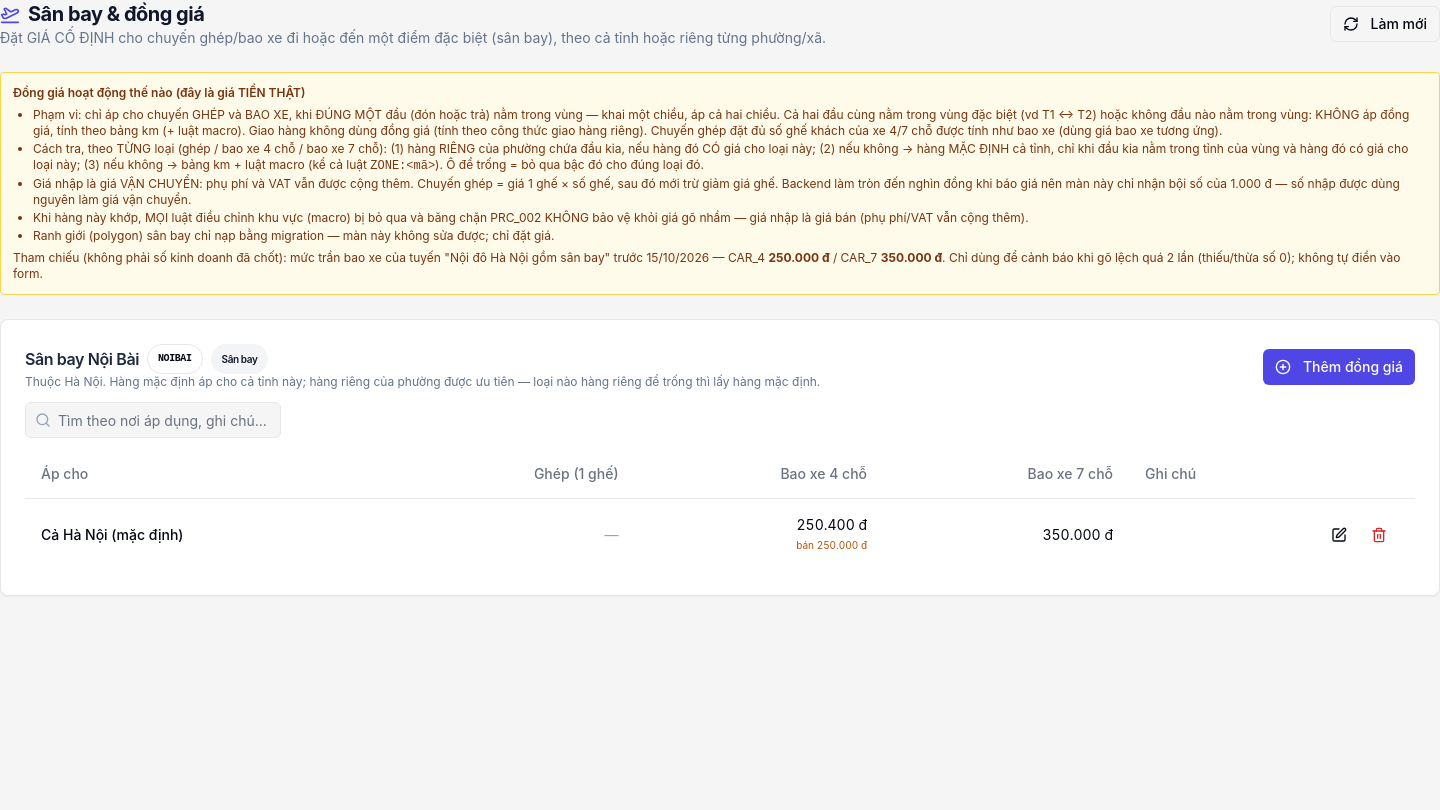
Test: SpecialZonesManager › giá lẻ nghìn (backend làm tròn đến nghìn lúc báo giá) › hàng lẻ nghìn có sẵn trong DB (ghi thẳng qua API): bảng nêu giá thực bán, sửa buộc nhập lại số tròn nghìn
Expected: the element with test id "zone-NOIBAI" is shown, [0,319,1439,596]
Expected: the text with test id "flat-odd-default-priceCar4" reads "bán 250.000 đ", [796,538,867,550]
Click the button named "Sửa đồng giá Cả Hà Nội". click: (1339, 534)
box: [1319,514,1359,554]
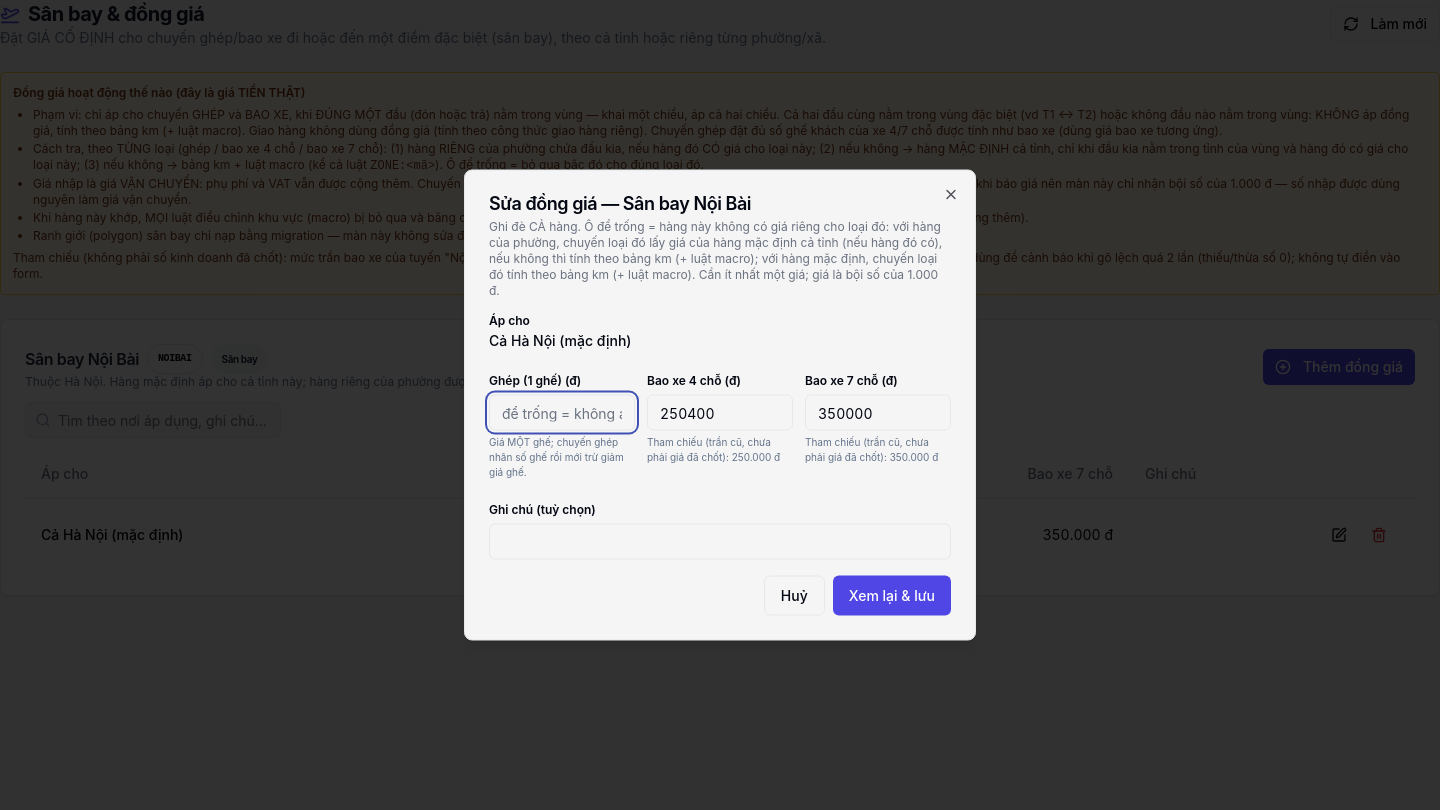
Click the button "Xem lại & lưu". click: (892, 596)
box: [833,576,951,616]
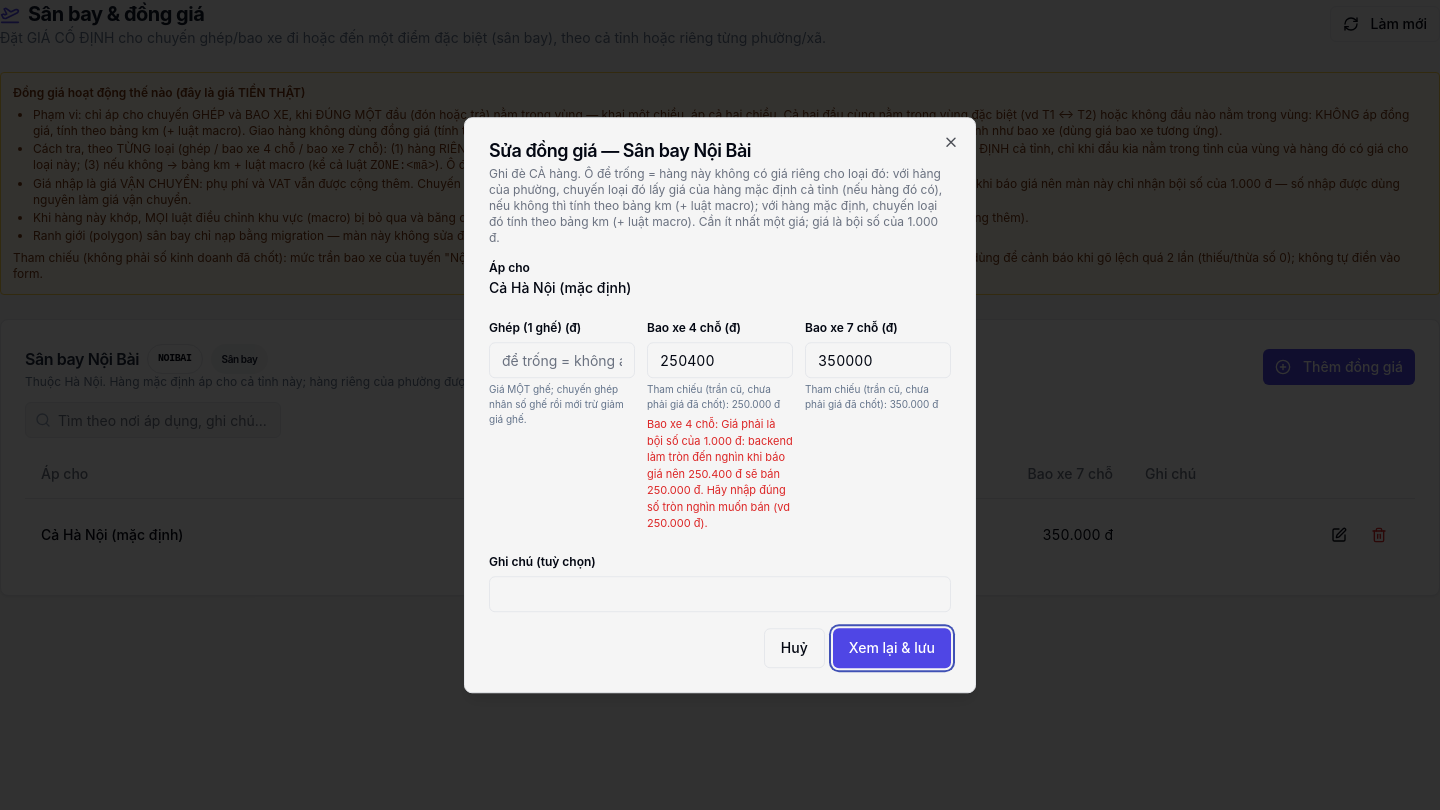
Now the text "sẽ bán 250.000 đ" is shown, box [647,417,793,530]
